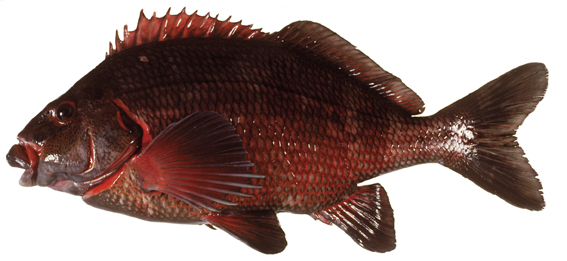fish: (18, 8, 548, 254)
